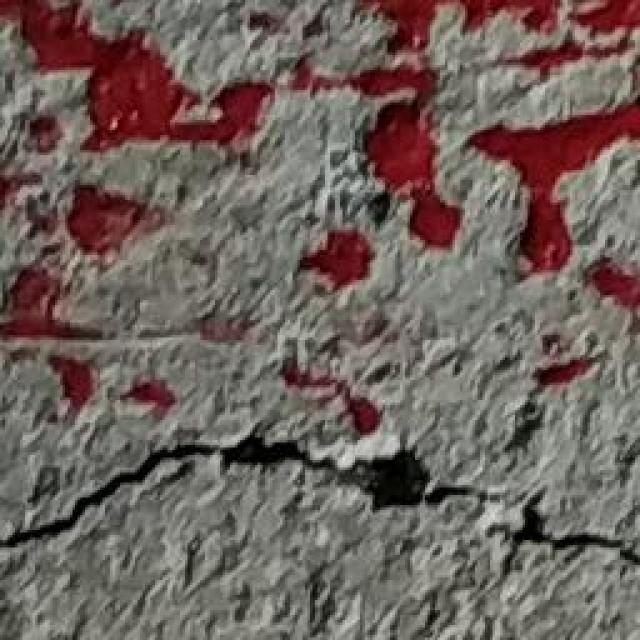Rippled: (0, 0, 640, 420)
Transverse: (0, 432, 640, 576)
